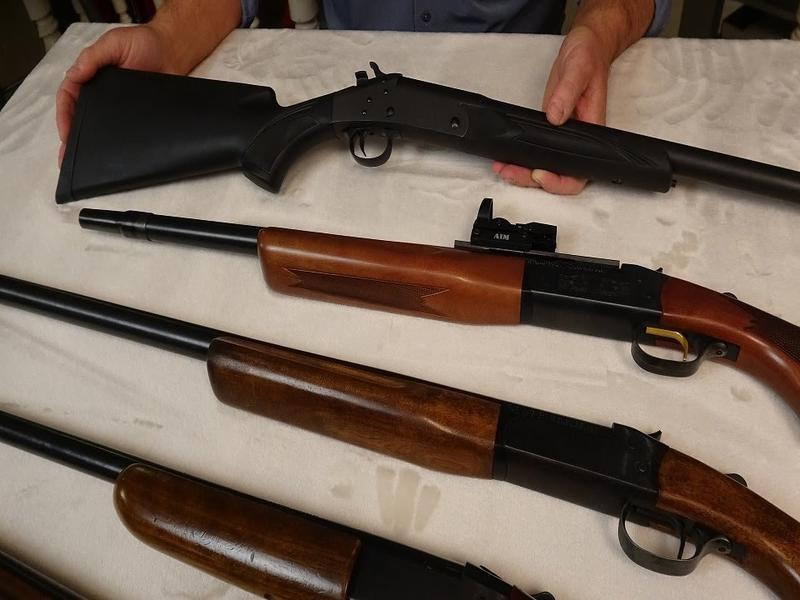GUN: (3, 56, 800, 600)
